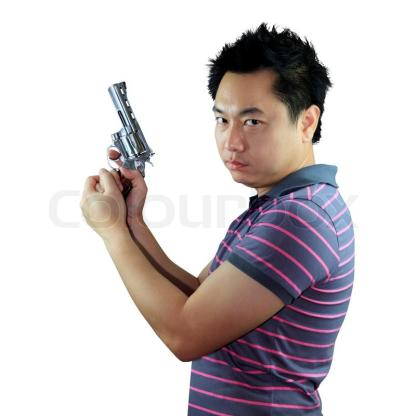handgun: (105, 79, 157, 176)
